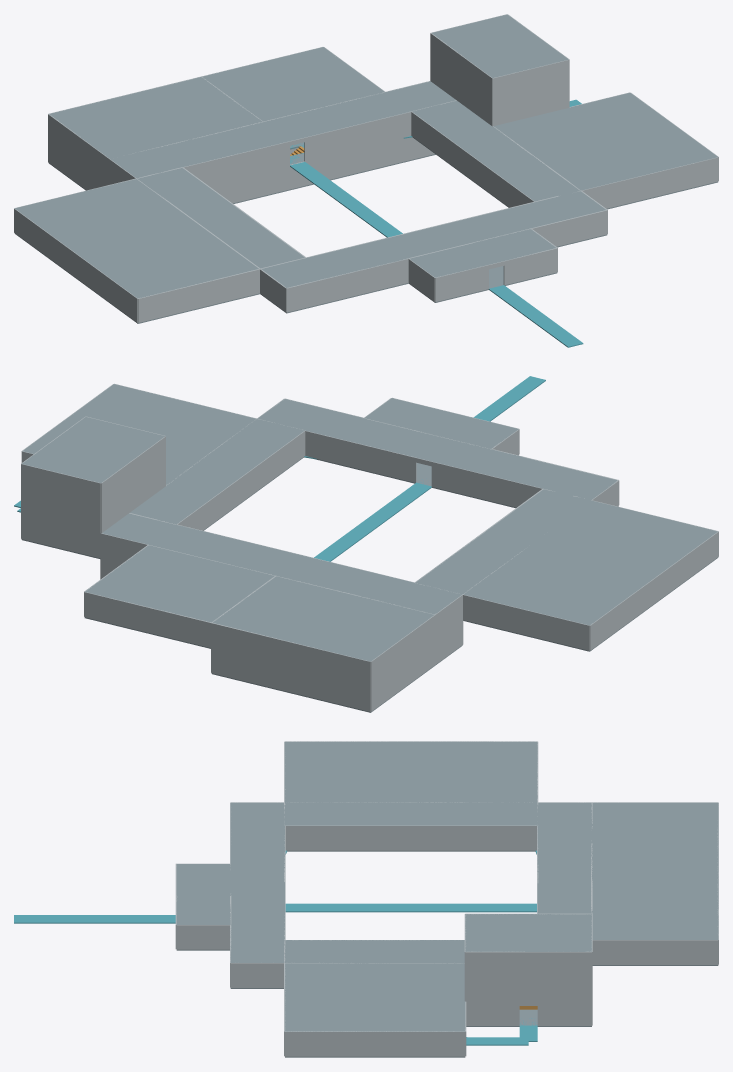
File: rough-shell.glb
3 renders of one model, top to bottom at view 1: azimuth 30°, elevation 25°; view 2: azimuth 150°, elevation 25°; view 3: azimuth 270°, elevation 25°, orthographic. The views are drawn at different scales.
Parts seen in each view (by area): view 1: Ceiling cap dorm, Ceiling cap refectory, Ceiling cap archive, Ceiling cap north, Ceiling cap south, Ceiling cap vestry, Ceiling cap east, Ceiling cap west, Ceiling cap bell, Wall catacombs S, Ceiling cap gatehouse, Wall refectory S (+19 smaller); view 2: Ceiling cap dorm, Ceiling cap archive, Ceiling cap north, Ceiling cap south, Ceiling cap vestry, Ceiling cap refectory, Ceiling cap east, Ceiling cap west, Ceiling cap bell, Wall archive N, Wall chamber N, Wall tower-base N (+18 smaller); view 3: Ceiling cap dorm, Ceiling cap refectory, Ceiling cap archive, Ceiling cap south, Ceiling cap vestry, Wall west E, Ceiling cap north, Ceiling cap west, Ceiling cap bell, Wall refectory E, Ceiling cap east, Ceiling cap gatehouse (+10 smaller).
Boxes of the visible parts, x1,y1,x2,y2 form: Ceiling cap dorm: [15, 179, 258, 298]; Ceiling cap refectory: [494, 93, 717, 190]; Ceiling cap archive: [49, 77, 262, 158]; Ceiling cap north: [110, 81, 455, 178]; Ceiling cap south: [261, 191, 605, 287]; Ceiling cap vestry: [202, 47, 384, 121]; Ceiling cap east: [412, 101, 580, 201]; Ceiling cap west: [137, 168, 304, 268]; Ceiling cap bell: [431, 14, 568, 77]; Wall catacombs S: [208, 137, 434, 203]; Ceiling cap gatehouse: [410, 229, 556, 277]; Wall refectory S: [581, 157, 718, 208]; Ceiling cap dorm: [463, 500, 717, 625]; Ceiling cap archive: [213, 576, 433, 661]; Ceiling cap north: [102, 513, 461, 614]; Ceiling cap south: [257, 399, 617, 500]; Ceiling cap vestry: [85, 545, 274, 622]; Ceiling cap refectory: [22, 384, 256, 485]; Ceiling cap east: [130, 419, 304, 524]; Ceiling cap west: [415, 489, 590, 594]; Ceiling cap bell: [22, 417, 164, 482]; Wall archive N: [211, 622, 370, 686]; Wall chamber N: [211, 648, 370, 711]; Wall tower-base N: [21, 489, 100, 558]; Ceiling cap dorm: [285, 741, 537, 802]; Ceiling cap refectory: [285, 963, 465, 1031]; Ceiling cap archive: [592, 802, 718, 878]; Ceiling cap south: [230, 802, 284, 962]; Ceiling cap vestry: [592, 879, 718, 939]; Wall west E: [285, 825, 536, 850]; Ceiling cap north: [537, 802, 591, 913]; Ceiling cap west: [285, 802, 537, 825]; Ceiling cap bell: [465, 914, 591, 951]; Wall refectory E: [285, 1031, 465, 1056]; Ceiling cap east: [285, 940, 464, 962]; Ceiling cap gatehouse: [176, 864, 230, 924].
Bounding box in the file's own units: 76.16 × 12.16 × 78.08.
